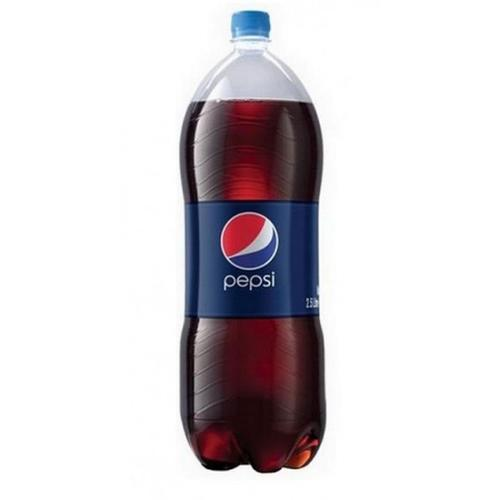pepsi: (216, 209, 278, 270), (220, 209, 278, 270)
